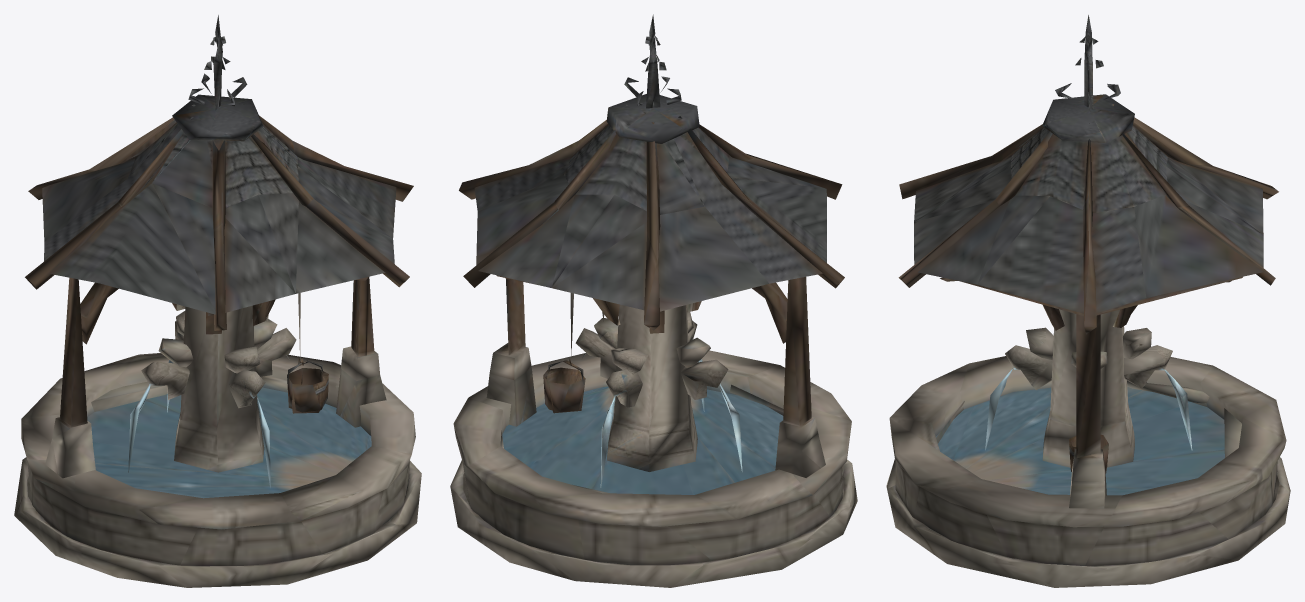
The model's file is Aurion_Village_Fountain_LOD2.glb.
3 views of the same model, side by side, from view 1: azimuth 30°, elevation 25°; view 2: azimuth 150°, elevation 25°; view 3: azimuth 270°, elevation 25° (orthographic).
Visible parts, largest first — view 1: Mesh_0.002; view 2: Mesh_0.002; view 3: Mesh_0.002.
Boxes of the visible parts, x1=… form: Mesh_0.002: x1=14, y1=15, x2=421, y2=587; Mesh_0.002: x1=450, y1=14, x2=857, y2=587; Mesh_0.002: x1=886, y1=15, x2=1290, y2=587.
Size of the model in its own units: 2.56 by 3.12 by 2.34.
Materials: 1 (1 with a texture image).
